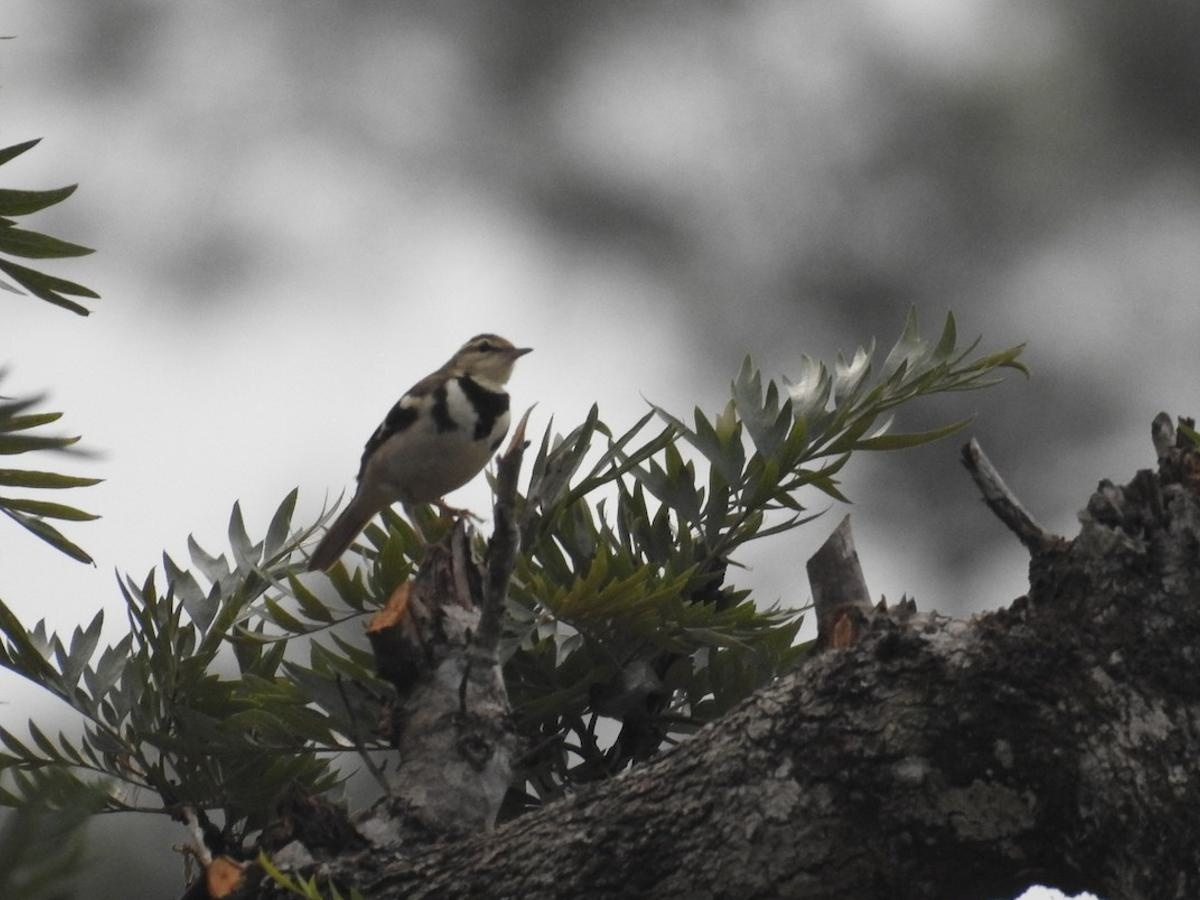wagtail: (319, 310, 543, 556)
